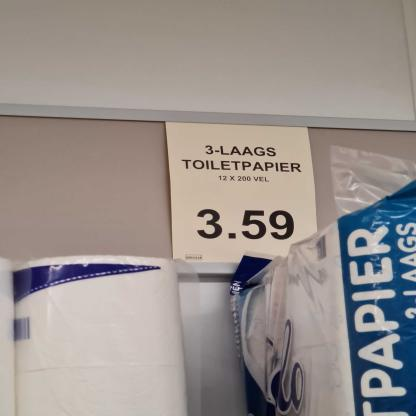prtg: (167, 123, 318, 264)
